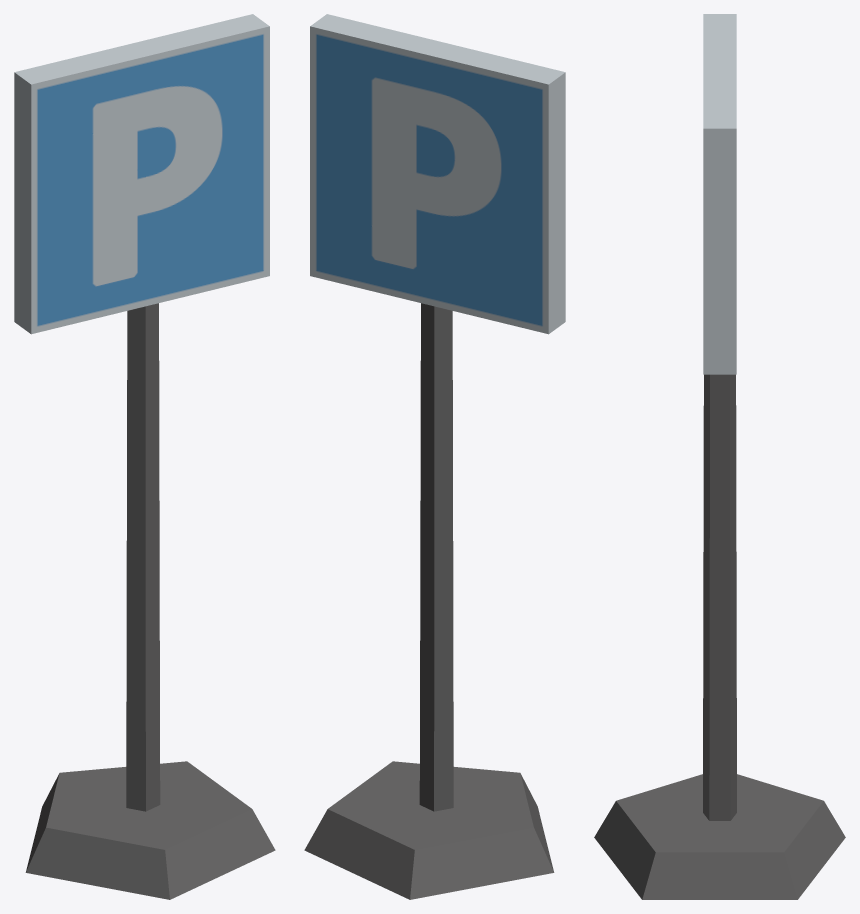
File: ParkSign_geo.fbx
3 views of the same model, side by side, from view 1: azimuth 30°, elevation 25°; view 2: azimuth 150°, elevation 25°; view 3: azimuth 270°, elevation 25° (orthographic).
Parts seen in each view (by area): view 1: ParkSign_geo; view 2: ParkSign_geo; view 3: ParkSign_geo.
Boxes of the visible parts, x1,y1,x2,y2 form: ParkSign_geo: (14, 14, 275, 899); ParkSign_geo: (304, 14, 565, 899); ParkSign_geo: (594, 14, 845, 899).
Size of the model in its own units: 0.363 by 0.3366 by 1.16.
